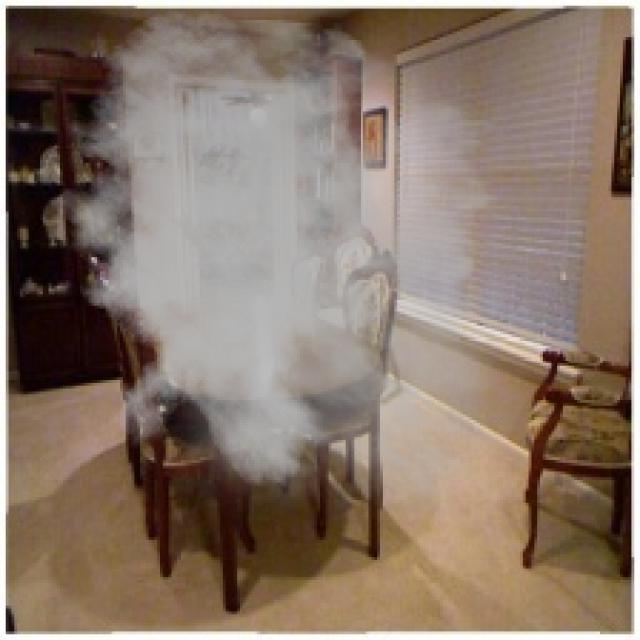Smoke: (34, 8, 557, 534)
